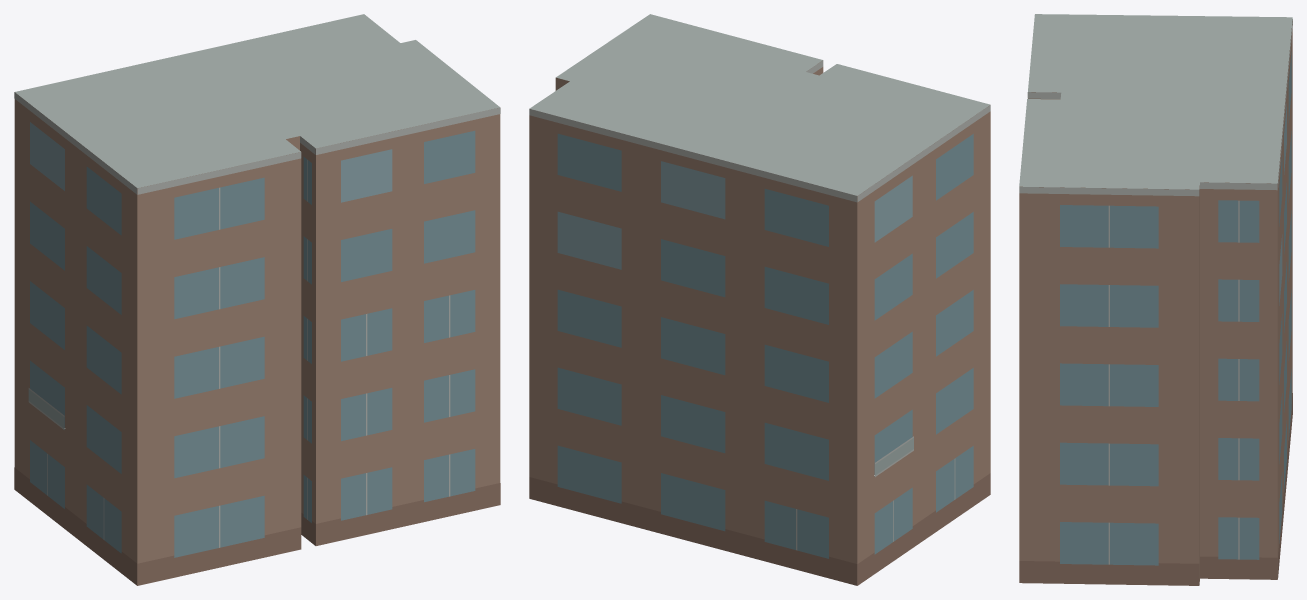
File: survey-upis-32719125.glb
The picture shows the model from 3 angles, left to right: view 1: azimuth 30°, elevation 25°; view 2: azimuth 150°, elevation 25°; view 3: azimuth 270°, elevation 25°; orthographic projection.
Parts seen in each view (by area): view 1: survey-upis-32719125.tmp; view 2: survey-upis-32719125.tmp; view 3: survey-upis-32719125.tmp.
Boxes of the visible parts, x1,y1,x2,y2 form: survey-upis-32719125.tmp: [14, 14, 500, 585]; survey-upis-32719125.tmp: [529, 14, 990, 585]; survey-upis-32719125.tmp: [1019, 14, 1292, 585].
Bounding box in the file's own units: 13.88 × 14.6 × 9.15.
